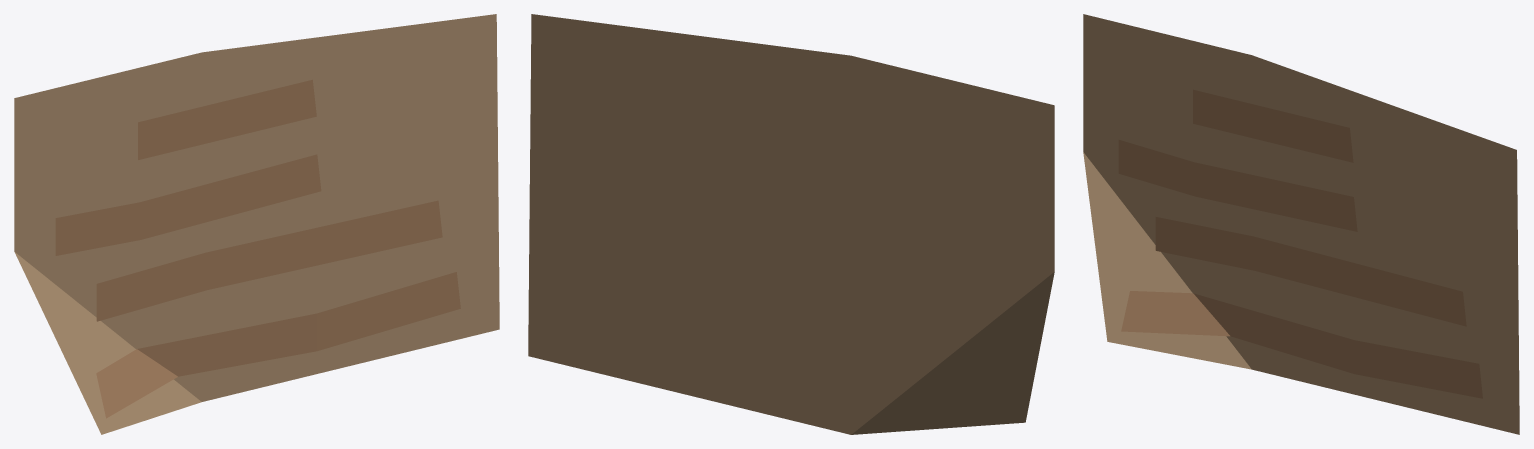
Rendered from SM_Note_C.fbx.
3 views of the same model, side by side, from view 1: azimuth 30°, elevation 25°; view 2: azimuth 150°, elevation 25°; view 3: azimuth 330°, elevation 25° (orthographic). The views are drawn at different scales.
Parts seen in each view (by area): view 1: SM_Note_C; view 2: SM_Note_C; view 3: SM_Note_C.
Boxes of the visible parts, box(x1,y1,x2,y2) form: SM_Note_C: box(14, 14, 499, 434); SM_Note_C: box(528, 14, 1054, 434); SM_Note_C: box(1083, 14, 1519, 434).
Bounding box in the file's own units: 28.48 × 19.6 × 3.07.
